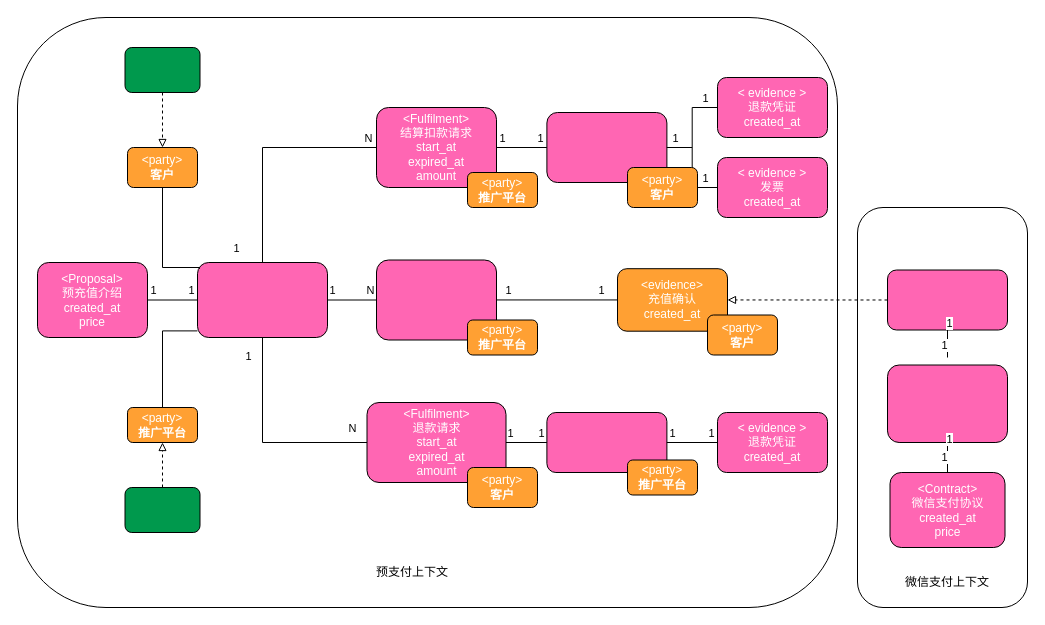
Some shapes in this 1045 by 625 pixel diagram are drawn without their labels. The centre of each missing label's shape, as x and y in pixels:
<Contract> 预充值协议 created_at price: [262,300]
<Fulfilment> 充值请求 start_at expired_at amount: [436,299]
<Fulfilment> 微信支付确认 paid_at: [947,299]
<Fulfilment> 微信支付请求 start_at expired_at amoun: [947,403]
<Fulfilment> 结算扣款确认 paid_at amount: [606,147]
<Fulfilment> 退款确认 paid_at: [606,442]
<party> 思沃商场: [162,509]
<party> 房产经纪人: [162,69]
